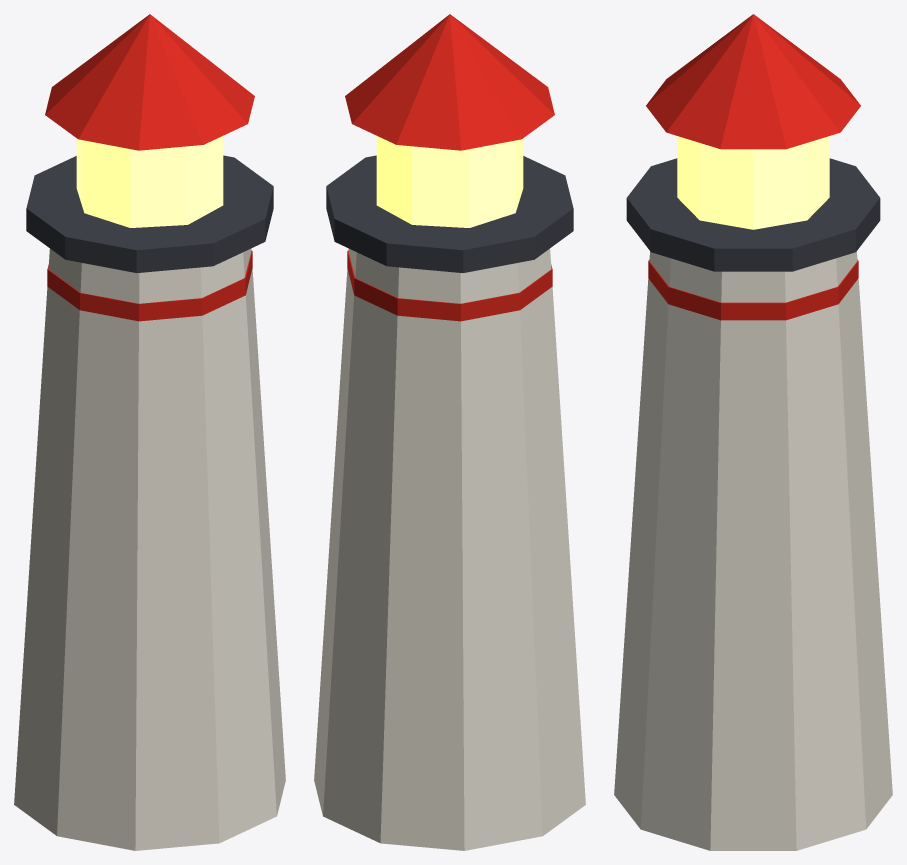
Rendered from sky_sky_lighthouse.glb.
The picture shows the model from 3 angles, left to right: view 1: azimuth 30°, elevation 25°; view 2: azimuth 150°, elevation 25°; view 3: azimuth 270°, elevation 25°; orthographic projection.
Visible parts, largest first — view 1: sky_lighthouse; view 2: sky_lighthouse; view 3: sky_lighthouse.
Part boxes in pixels (x1,y1,x2,y2): sky_lighthouse: (14, 14, 285, 850); sky_lighthouse: (314, 14, 585, 850); sky_lighthouse: (614, 14, 892, 850).
Size of the model in its own units: 2.09 by 6.8 by 2.2.
